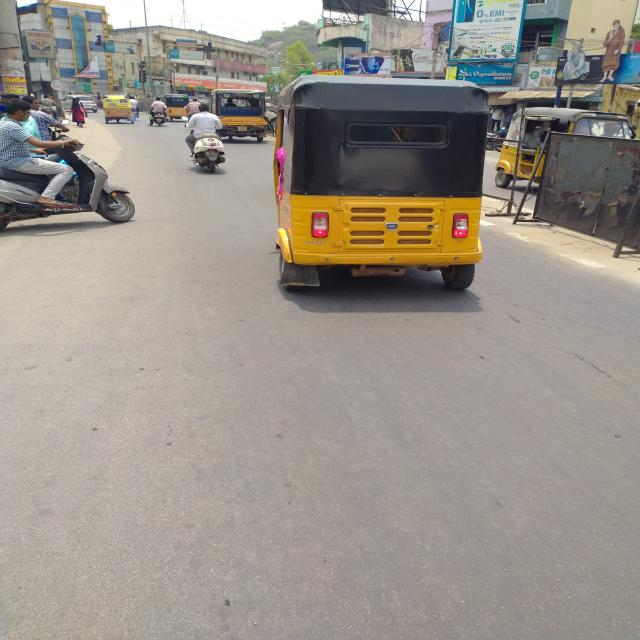Autorickshaw: (270, 68, 521, 304), (500, 106, 640, 180), (208, 87, 274, 146), (98, 90, 135, 126), (160, 92, 192, 123)
Bike: (0, 140, 137, 242), (182, 128, 228, 172), (28, 114, 70, 150), (142, 107, 168, 129), (487, 127, 509, 152), (40, 106, 61, 124), (131, 104, 141, 126)
Car: (62, 92, 98, 114)
